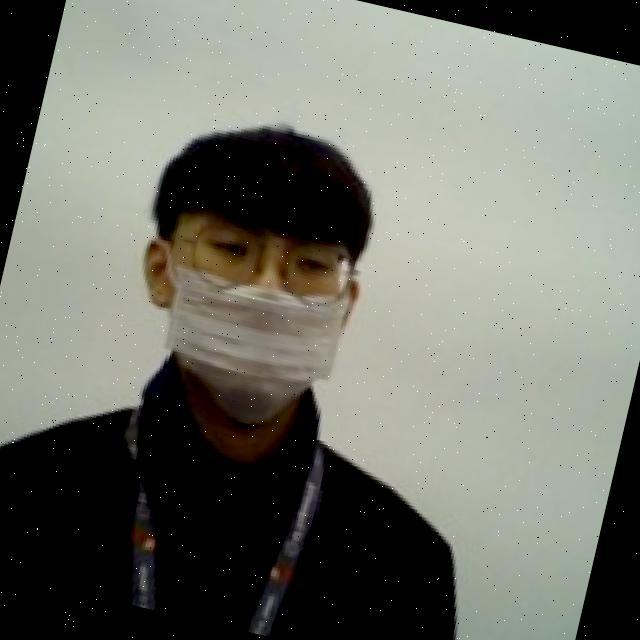mask: (105, 228, 362, 450)
no_gloves: (144, 92, 395, 275)
